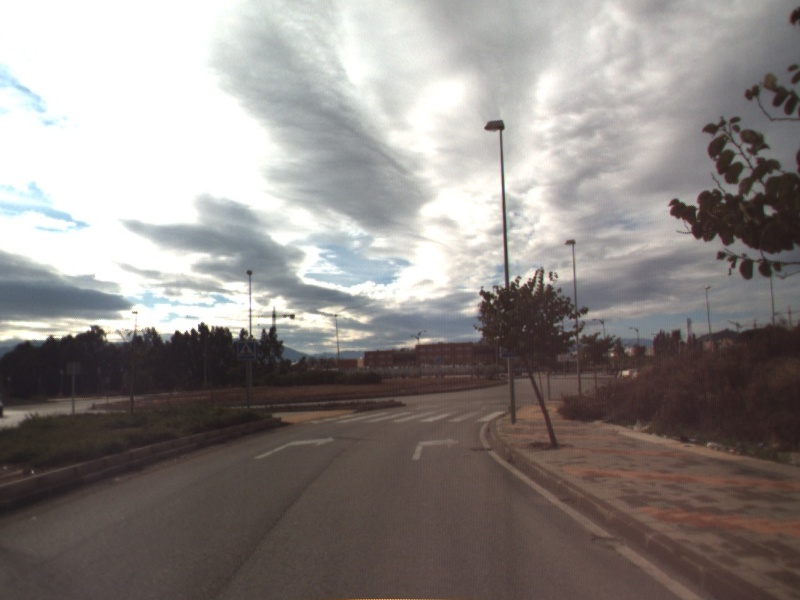RIGHT: (252, 433, 337, 461), (410, 434, 461, 462)
